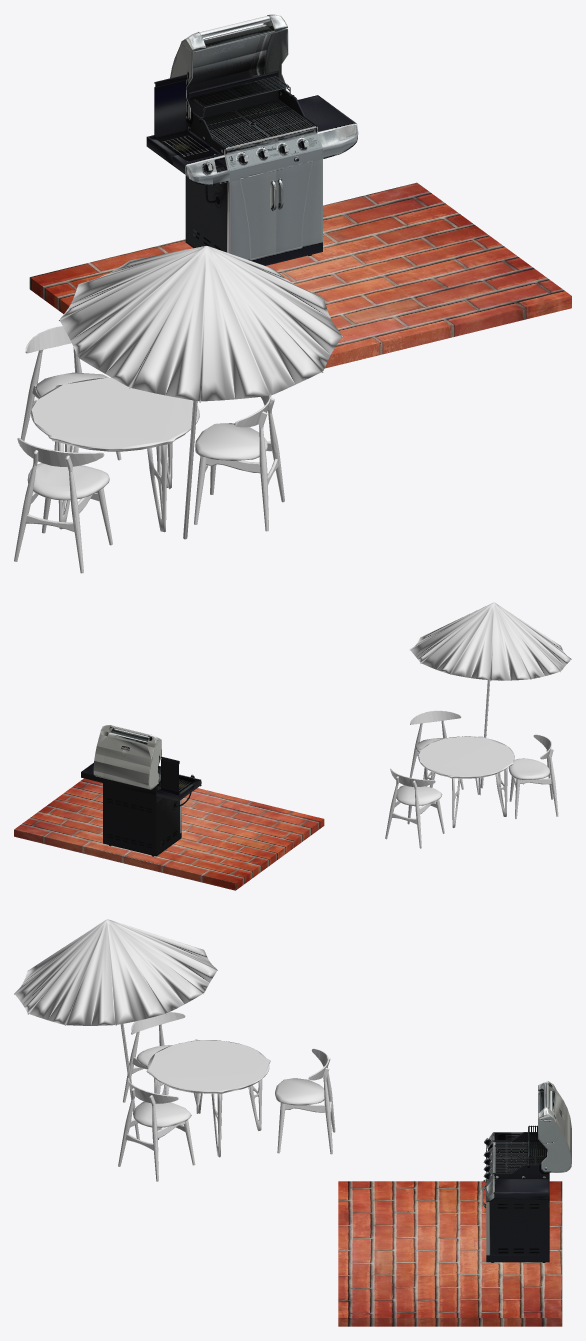
File: parrilla.fbx
3 views of the same model, one above another, from view 1: azimuth 30°, elevation 25°; view 2: azimuth 150°, elevation 25°; view 3: azimuth 270°, elevation 25° (orthographic). The views are drawn at different scales.
Visible parts, largest first — view 1: BBQ, Base, 10243_Patio_Umbrella_Open_v1_Iteration2, Provisione_table_002, Provisione_table_089, Provisione_table_063, Provisione_table_075; view 2: Base, BBQ, 10243_Patio_Umbrella_Open_v1_Iteration2, Provisione_table_002, Provisione_table_075, Provisione_table_089, Provisione_table_063; view 3: Base, 10243_Patio_Umbrella_Open_v1_Iteration2, BBQ, Provisione_table_002, Provisione_table_063, Provisione_table_075, Provisione_table_089.
Boxes of the visible parts, bbox=[...] form: BBQ: bbox=[146, 14, 358, 265]; Base: bbox=[29, 182, 571, 368]; 10243_Patio_Umbrella_Open_v1_Iteration2: bbox=[59, 246, 342, 539]; Provisione_table_002: bbox=[31, 377, 199, 532]; Provisione_table_089: bbox=[14, 438, 112, 573]; Provisione_table_063: bbox=[194, 395, 284, 531]; Provisione_table_075: bbox=[19, 326, 121, 460]; Base: bbox=[14, 778, 324, 890]; BBQ: bbox=[81, 725, 201, 856]; 10243_Patio_Umbrella_Open_v1_Iteration2: bbox=[410, 602, 571, 788]; Provisione_table_002: bbox=[418, 736, 514, 827]; Provisione_table_075: bbox=[385, 768, 444, 848]; Provisione_table_089: bbox=[508, 734, 558, 818]; Provisione_table_063: bbox=[409, 710, 463, 789]; Base: bbox=[338, 1181, 562, 1326]; 10243_Patio_Umbrella_Open_v1_Iteration2: bbox=[14, 919, 217, 1139]; BBQ: bbox=[482, 1081, 571, 1262]; Provisione_table_002: bbox=[146, 1039, 270, 1157]; Provisione_table_063: bbox=[118, 1078, 195, 1181]; Provisione_table_075: bbox=[275, 1048, 335, 1154]; Provisione_table_089: bbox=[123, 1012, 196, 1104].
Bounding box in the file's own units: 1250 × 545 × 1234.
2 materials, 2 textured.
